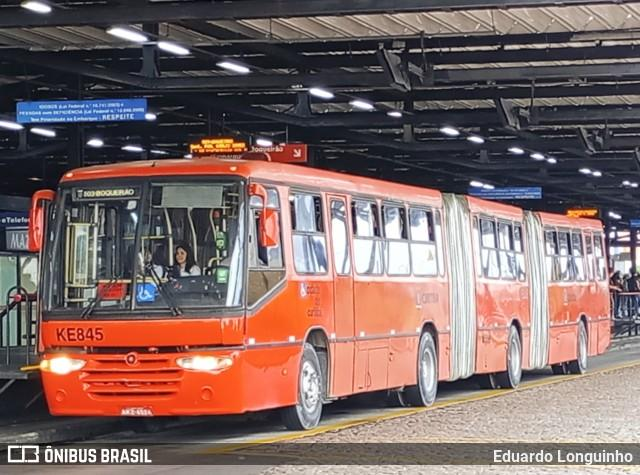BOQUEIRAO: (94, 188, 139, 198)
